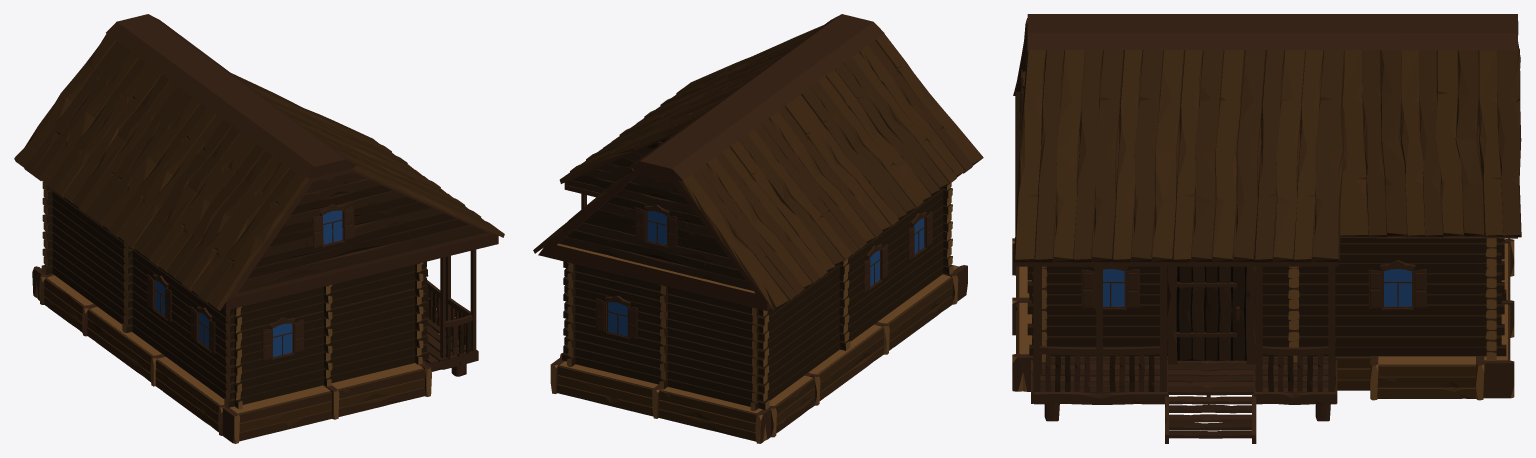
The model's file is house.obj.
3 views of the same model, side by side, from view 1: azimuth 30°, elevation 25°; view 2: azimuth 150°, elevation 25°; view 3: azimuth 270°, elevation 25° (orthographic). The views are drawn at different scales.
Parts seen in each view (by area): view 1: House; view 2: House; view 3: House.
Part boxes in pixels (<box>): House: <box>14,14,504,443</box>; House: <box>533,14,983,443</box>; House: <box>1012,14,1521,443</box>.
Bounding box in the file's own units: 3.2 × 2.56 × 3.79.
